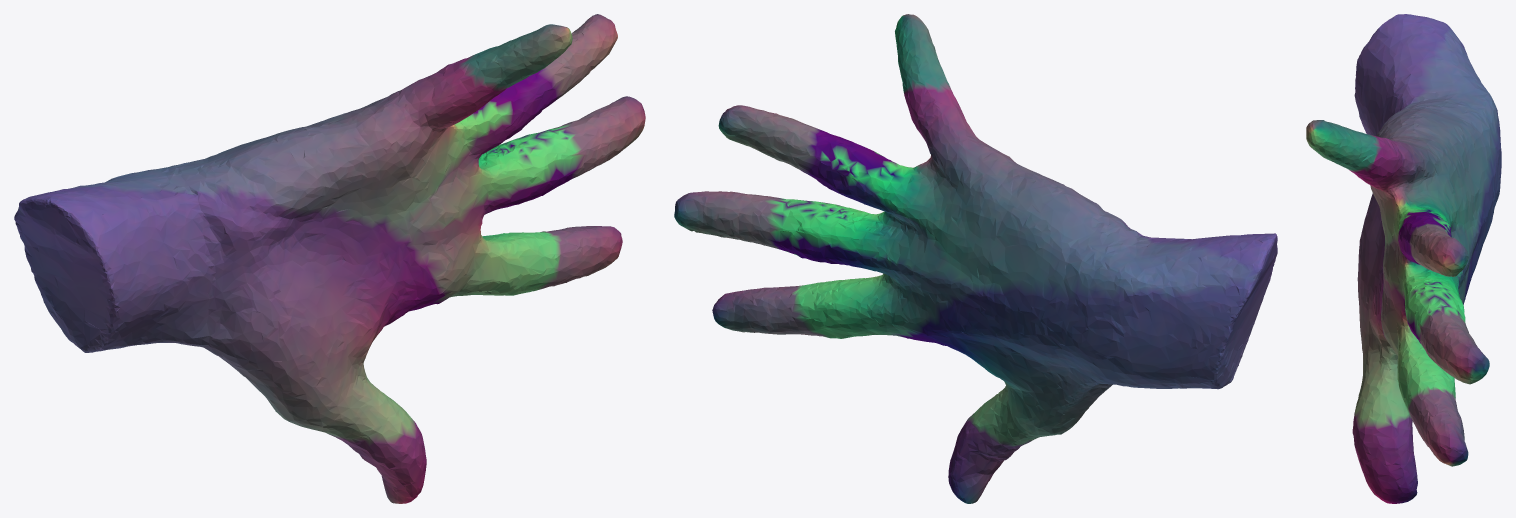
Rendered from hand-13.off.obj.
The picture shows the model from 3 angles, left to right: view 1: azimuth 30°, elevation 25°; view 2: azimuth 150°, elevation 25°; view 3: azimuth 270°, elevation 25°; orthographic projection. The views are drawn at different scales.
Bounding box in the file's own units: 1.75 × 1.26 × 0.519.
